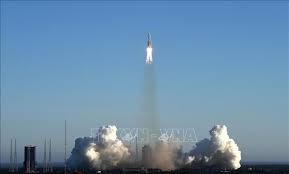ten_lua: (145, 29, 155, 49)
